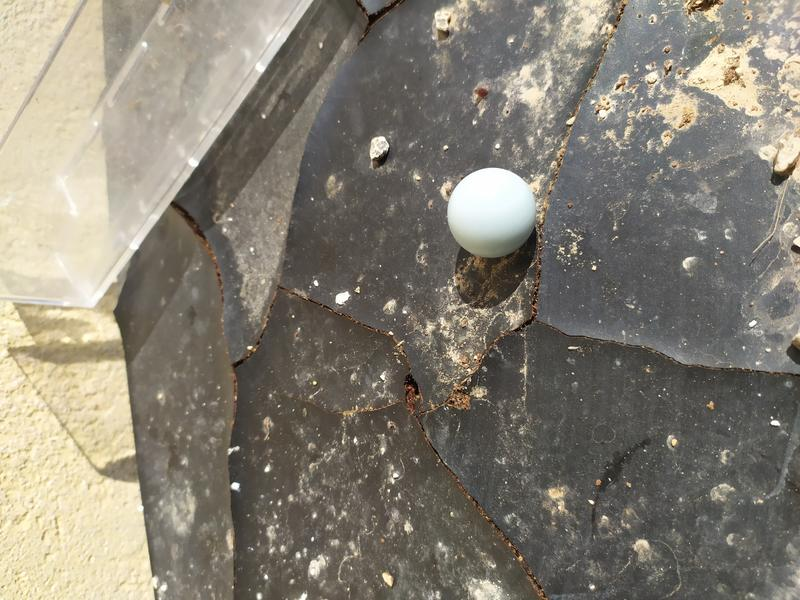Warning: (444, 164, 541, 260)
